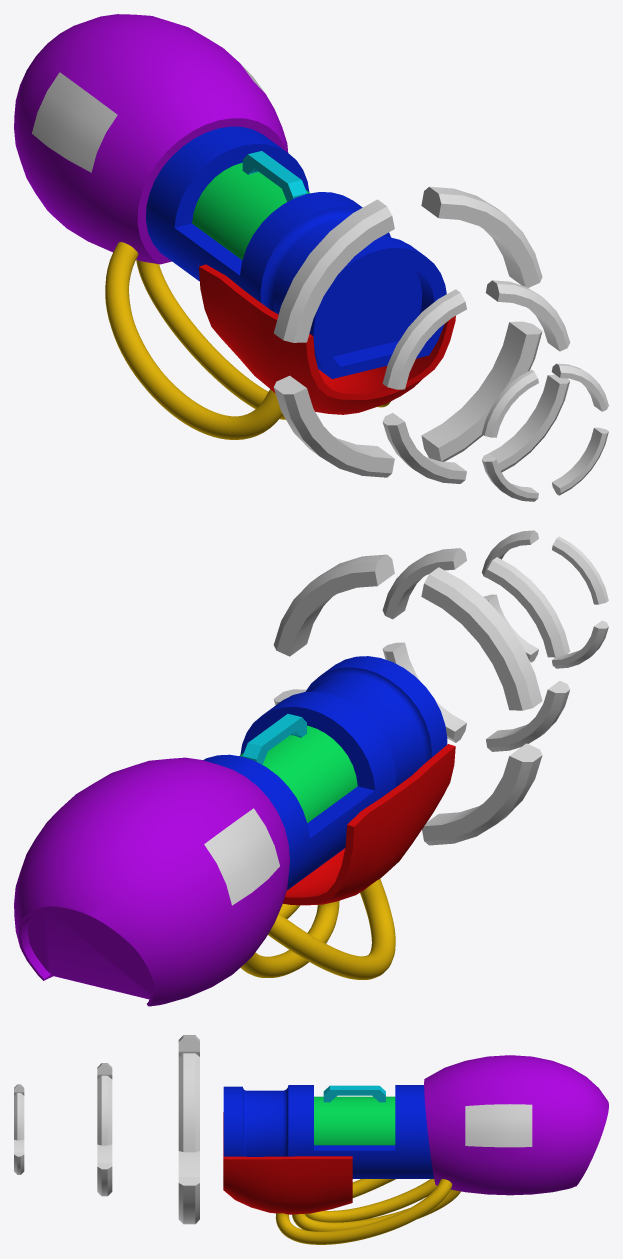
Rendered from Special_Model.fbx.
3 views of the same model, one above another, from view 1: azimuth 30°, elevation 25°; view 2: azimuth 150°, elevation 25°; view 3: azimuth 270°, elevation 25° (orthographic). The views are drawn at different scales.
Visible parts, largest first — view 1: Special_Main, Ring_1, Ring_3, Mag, Clips.002, Ring_2; view 2: Special_Main, Ring_1, Ring_3, Mag, Clips.002, Ring_2; view 3: Special_Main, Mag, Ring_1, Clips.001, Ring_3, Ring_2.
Boxes of the visible parts, x1,y1,x2,y2 form: Special_Main: (14, 14, 455, 439); Ring_1: (273, 186, 542, 477); Ring_3: (382, 280, 570, 483); Mag: (192, 151, 309, 260); Clips.002: (32, 72, 117, 172); Ring_2: (482, 363, 608, 501); Special_Main: (14, 656, 455, 1006); Ring_1: (273, 554, 542, 845); Ring_3: (382, 548, 570, 751); Mag: (239, 714, 357, 822); Clips.002: (204, 808, 279, 905); Ring_2: (482, 530, 608, 668); Special_Main: (223, 1055, 608, 1244); Mag: (314, 1085, 395, 1145); Ring_1: (178, 1035, 199, 1224); Clips.001: (465, 1104, 532, 1147); Ring_3: (97, 1063, 112, 1196); Ring_2: (14, 1084, 24, 1174).
Size of the model in its own units: 249 by 274 by 798.
